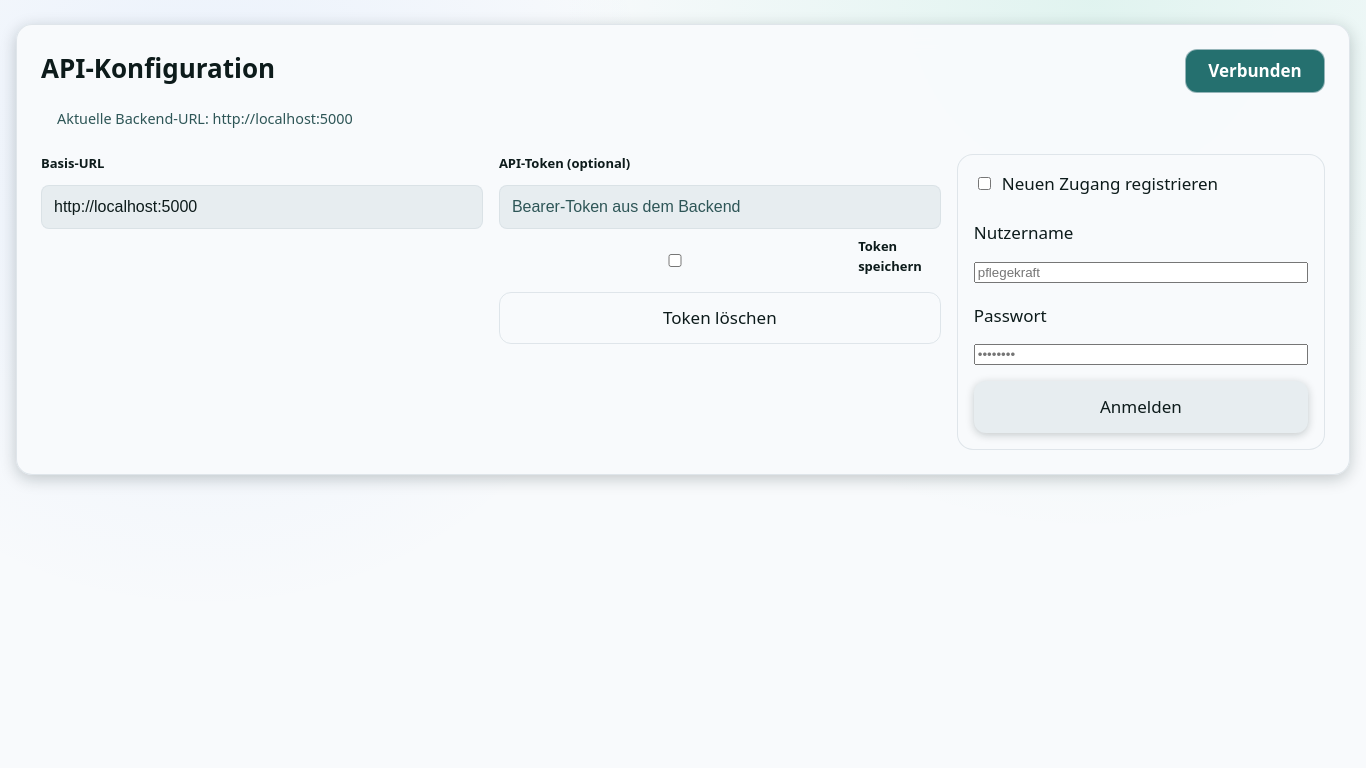
Test: ApiConfigBar authentication helpers › logs in and stores the returned token for the session
Type "amy" into the field labelled "Nutzername" at (1141, 272), box 974,262 -> 1308,283
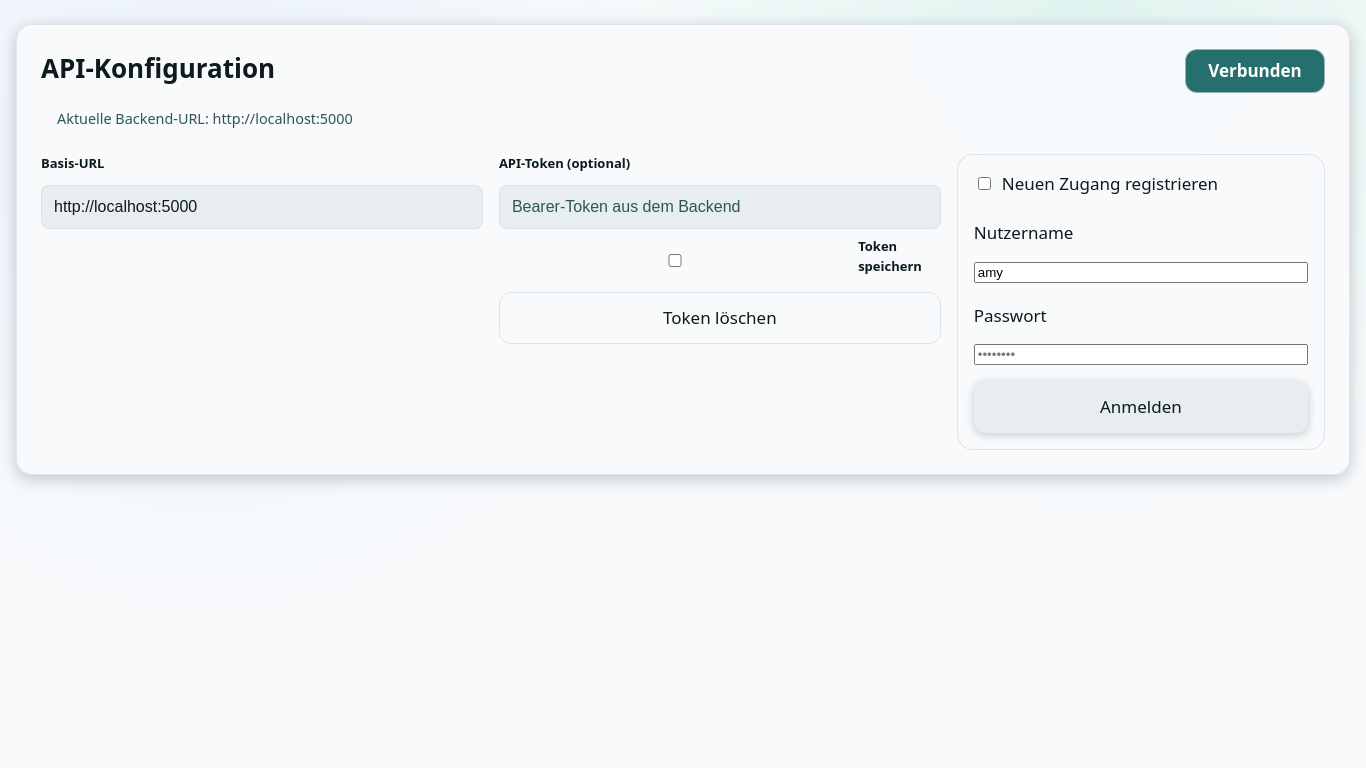
Type "sehrgeheim" into the password field labelled "Passwort" at (1141, 355), box 974,344 -> 1308,365
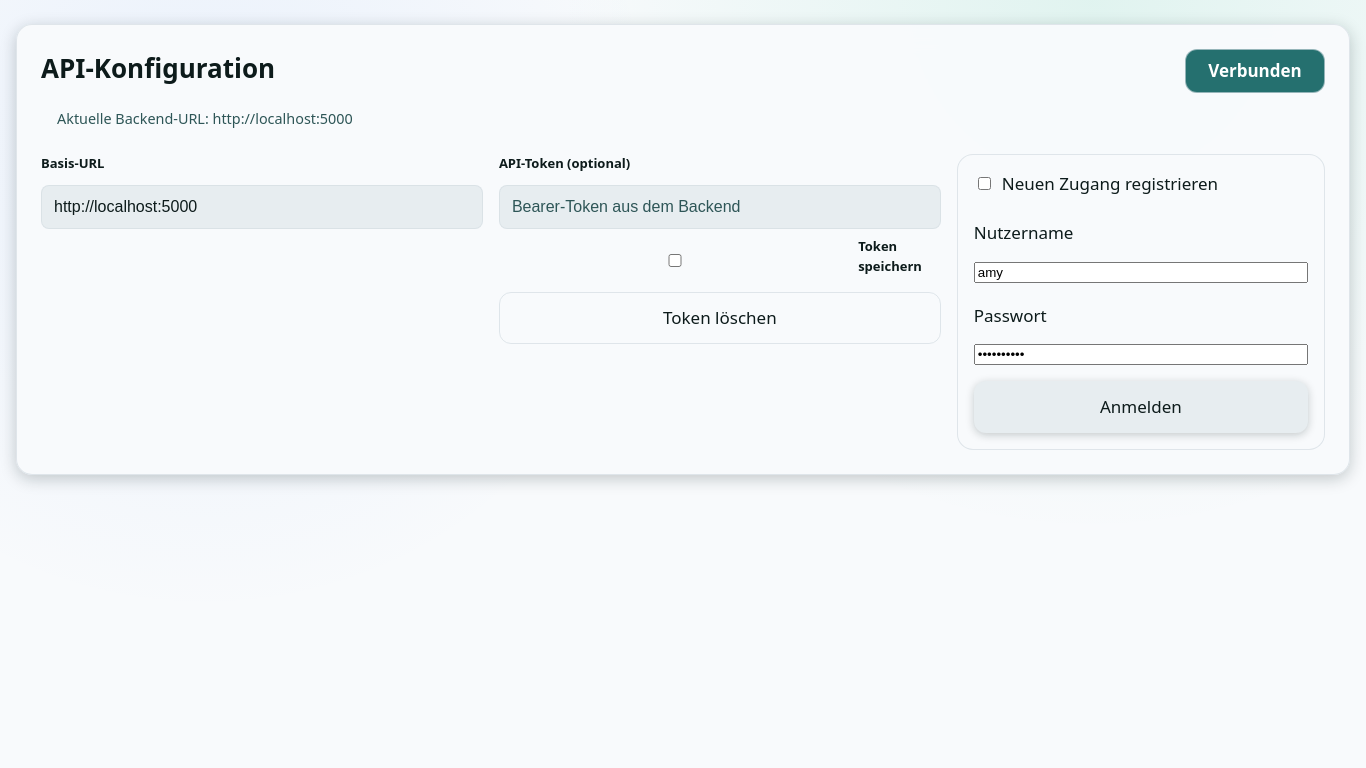
Click the button "Anmelden" at (1141, 407), box 974,381 -> 1308,433
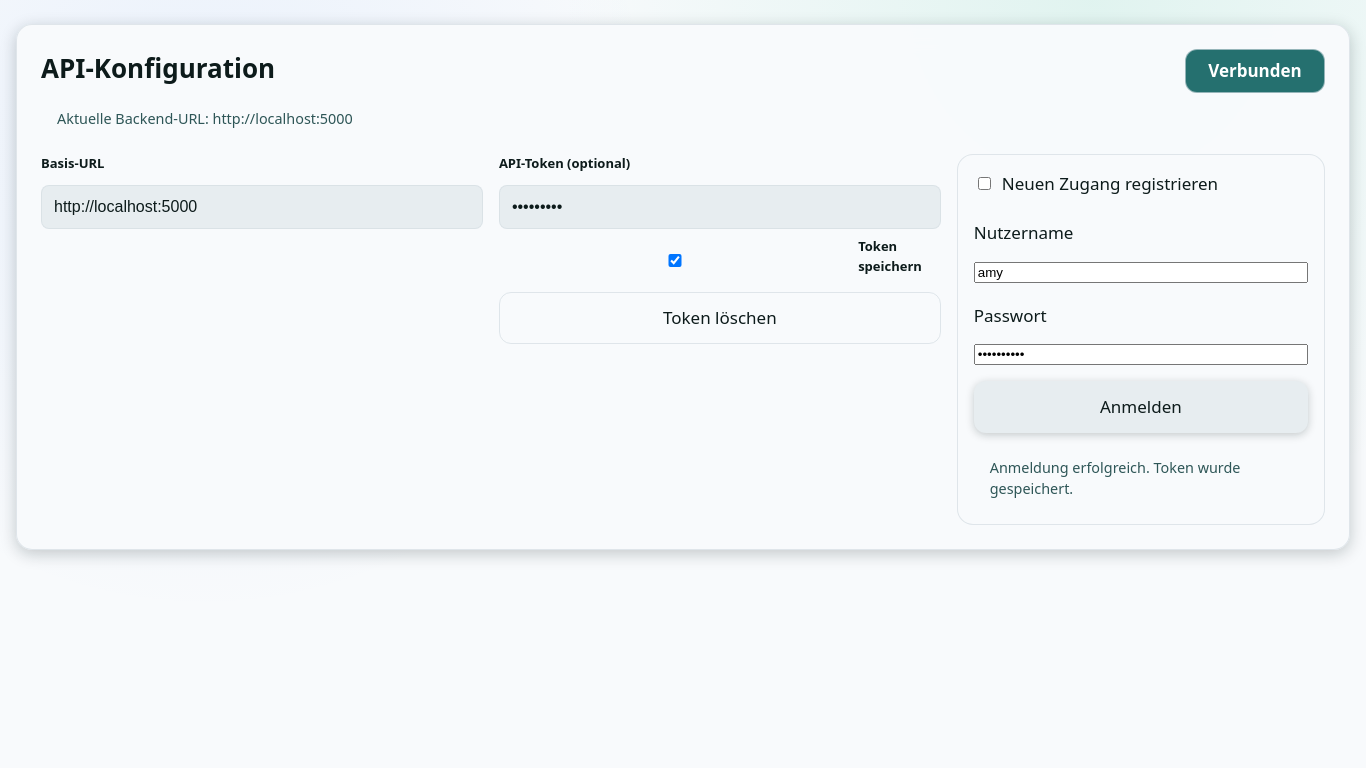
Check: the text "Anmeldung erfolgreich. Token wurde gespeichert." is shown, box 990,458 -> 1240,498
